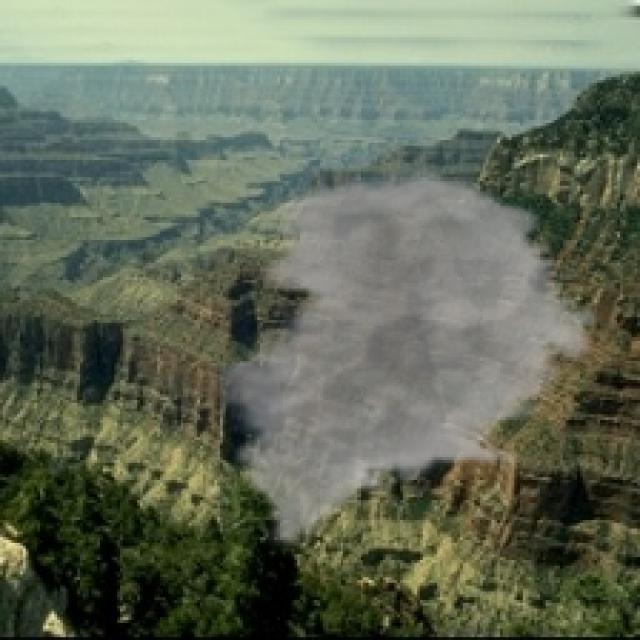Smoke: (206, 166, 608, 552)
